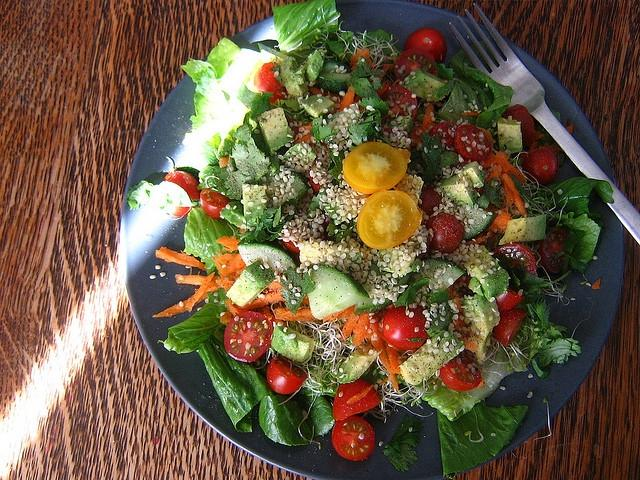avocado: (399, 329, 466, 385), (227, 259, 276, 307), (332, 344, 382, 384), (257, 107, 295, 154), (270, 324, 316, 362), (399, 69, 448, 101), (462, 294, 500, 332), (499, 215, 546, 245), (276, 57, 310, 98), (440, 172, 478, 208), (242, 184, 268, 227), (497, 118, 523, 154), (300, 96, 335, 118), (462, 162, 487, 188)
carrot: (364, 312, 398, 392), (152, 284, 222, 318), (482, 150, 526, 184), (156, 246, 207, 271), (186, 271, 215, 312), (502, 174, 526, 216), (238, 290, 287, 310), (486, 204, 514, 233), (220, 252, 247, 277), (322, 304, 356, 323), (276, 308, 322, 322), (349, 48, 374, 72), (352, 313, 369, 346), (385, 341, 401, 374), (175, 274, 221, 285), (216, 235, 242, 253), (500, 173, 515, 203), (342, 312, 359, 338), (421, 101, 435, 132), (339, 86, 355, 112), (458, 338, 478, 352), (293, 134, 313, 146), (376, 81, 390, 97), (220, 311, 233, 323), (565, 123, 575, 136), (218, 156, 228, 168), (592, 278, 601, 289), (461, 111, 480, 116)
cucumber: (400, 329, 466, 385), (308, 265, 370, 319), (226, 260, 276, 306), (336, 344, 382, 384), (237, 243, 297, 273), (270, 324, 314, 362), (498, 215, 546, 246), (439, 174, 479, 207), (498, 118, 524, 154), (462, 161, 487, 188)
tomato: (357, 188, 422, 250), (343, 142, 407, 194), (224, 311, 273, 362), (332, 378, 380, 422), (382, 305, 430, 349), (501, 104, 545, 151), (332, 415, 375, 461), (164, 170, 200, 216), (426, 212, 464, 253), (440, 356, 482, 392), (518, 148, 560, 184), (266, 357, 306, 394), (254, 61, 288, 104), (492, 308, 528, 348), (394, 48, 438, 80), (454, 125, 492, 162), (406, 29, 446, 64), (540, 227, 570, 273), (381, 85, 418, 121), (494, 243, 536, 274), (200, 188, 233, 218), (428, 121, 458, 148), (418, 186, 443, 218), (496, 287, 524, 314), (409, 126, 422, 146), (309, 174, 323, 192), (282, 240, 300, 253)
